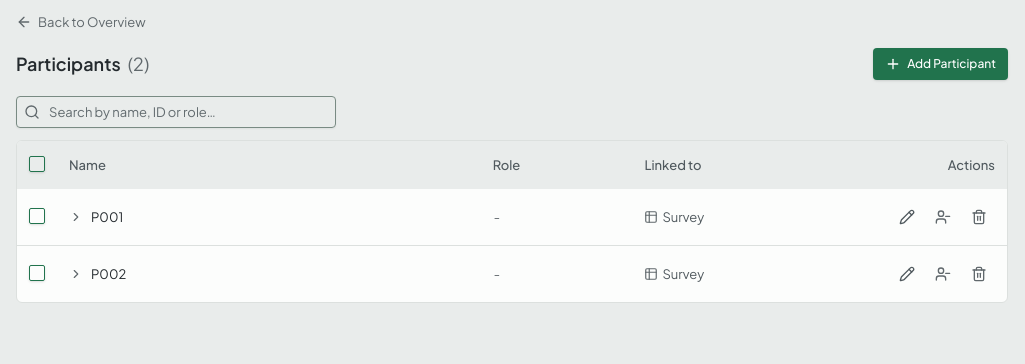
Test: #1090 — the filter row › Clear hands focus to select-all rather than to <body>
The width and height of the screenshot is (1025, 364).
Expected: the text "P001" is shown, [91,207,123,227]
Click the checkbox named "Select P001": (37, 216) [29,208,45,224]
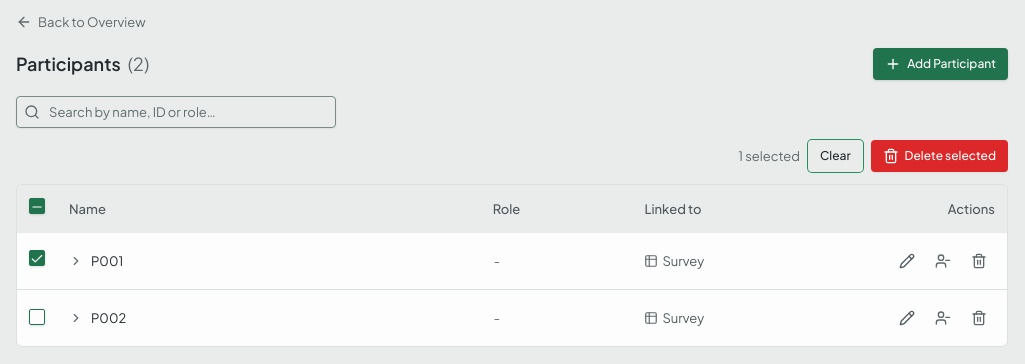
Click the button "Clear": (835, 156) [808,140,863,172]
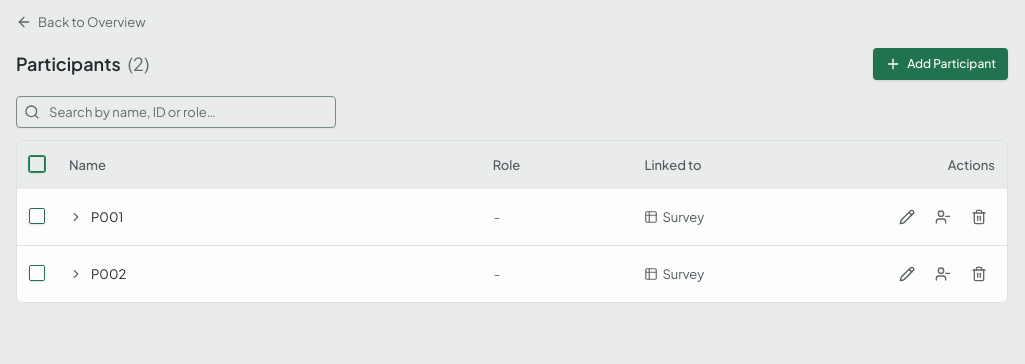
Now the button "Clear" is gone
